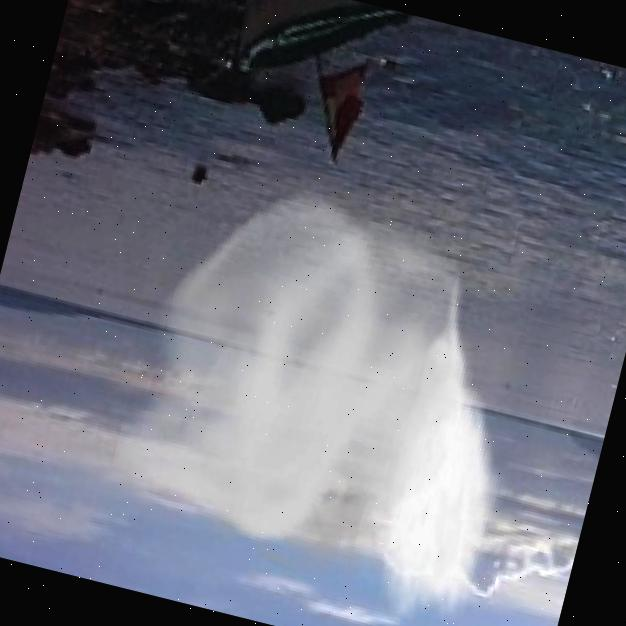smoke: (88, 149, 567, 626)
